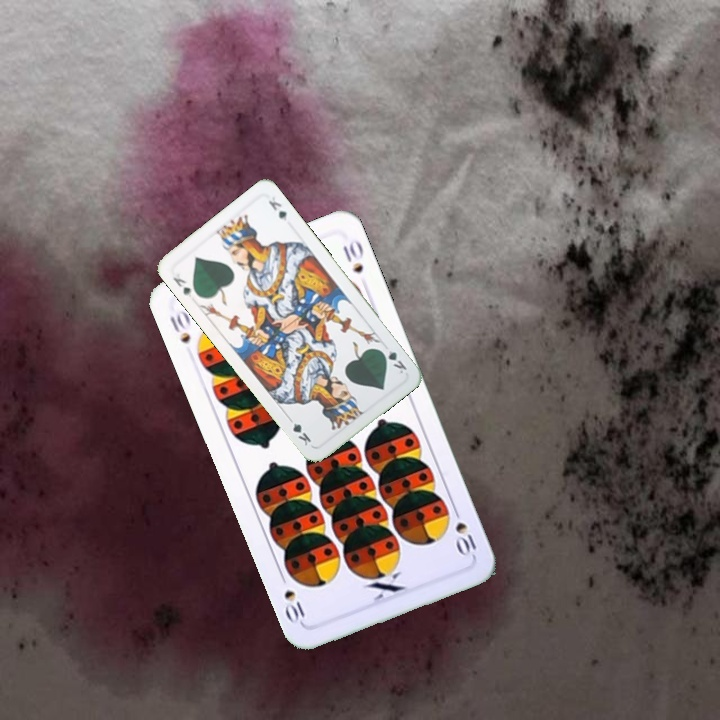GK: (376, 345, 410, 376), (169, 269, 195, 300)
S10: (449, 502, 479, 560), (165, 306, 193, 347)
